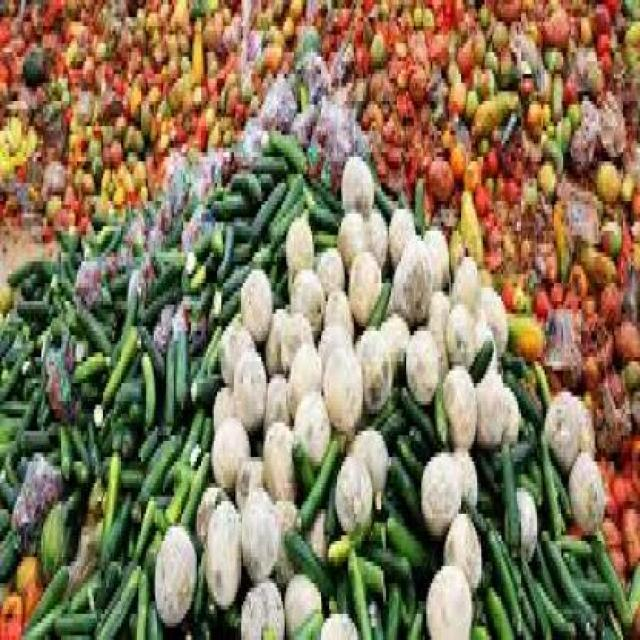garbage: (1, 0, 637, 635)
